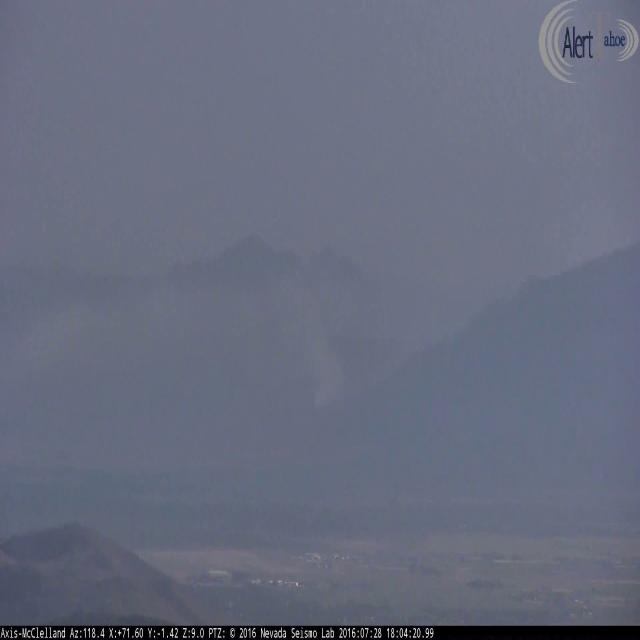smoke: (286, 267, 347, 413)
